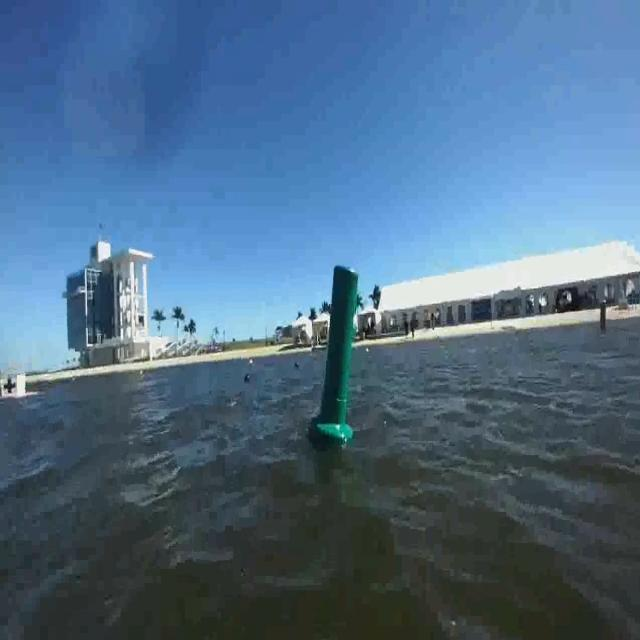green-column-buoy: (315, 261, 361, 445)
